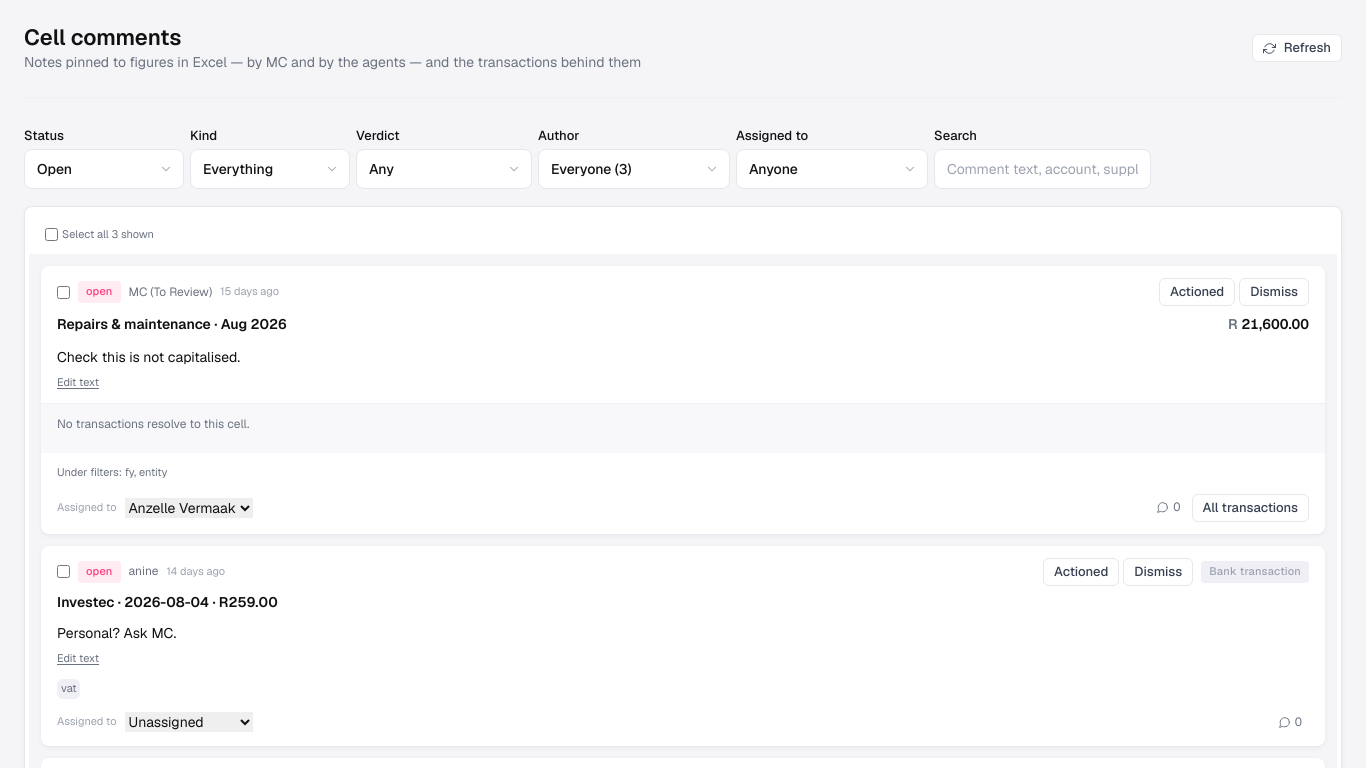
Test: AuditComments — bulk assign › a whole-batch failure reports zero, not silence
Click the checkbox with test id "cc-pick-41": (64, 292) [57,286,70,299]
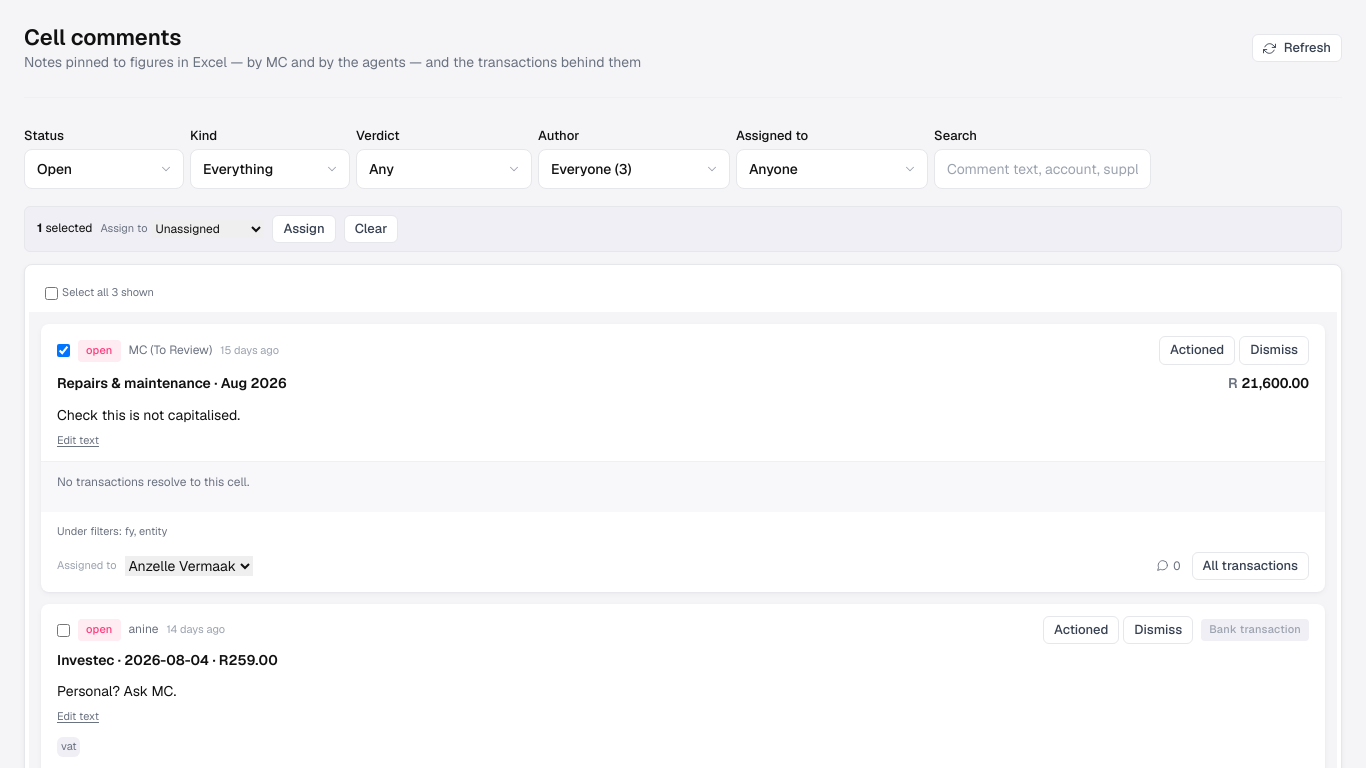
Click the checkbox named "Select for bulk assign: Investec · 2026-08-04 · R259.00": (64, 630) [57,624,70,637]
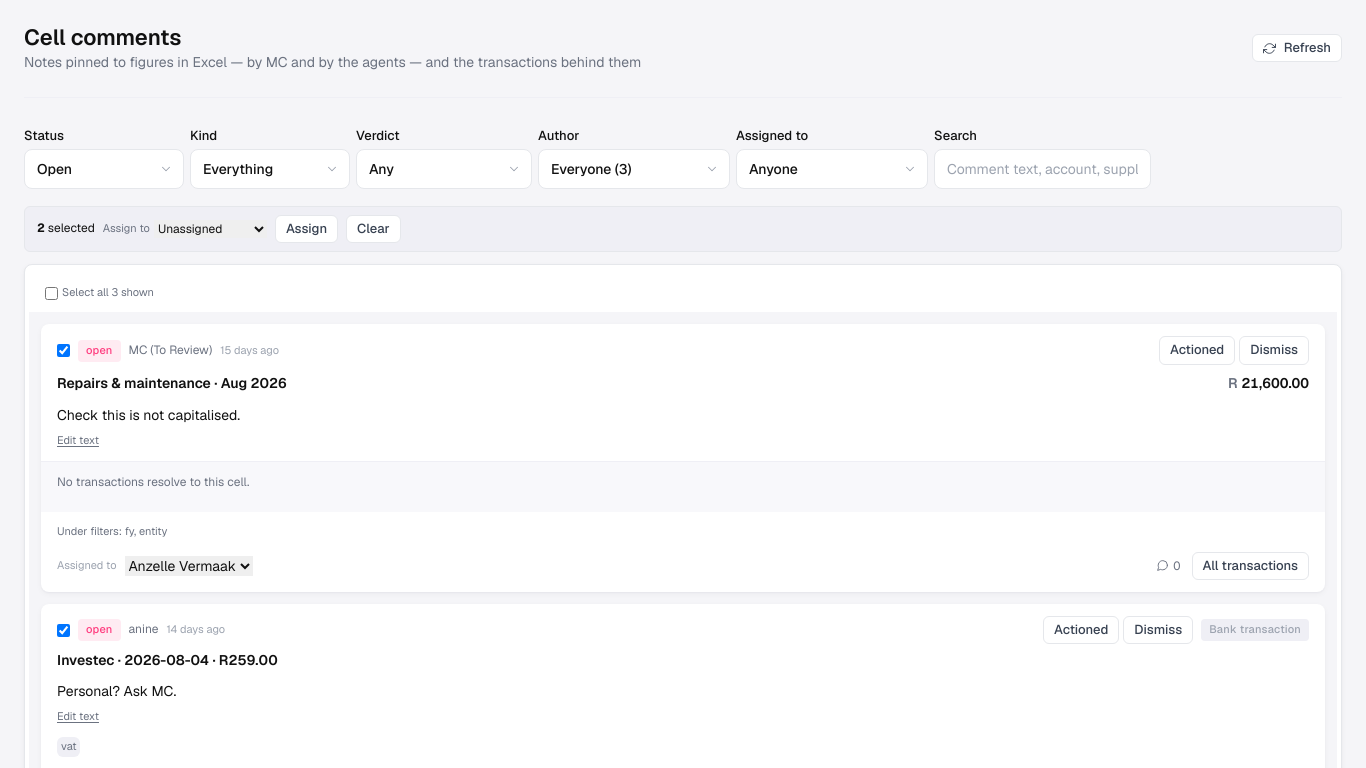
Click the button with test id "cc-bulk-apply": (306, 229) [275,215,338,243]
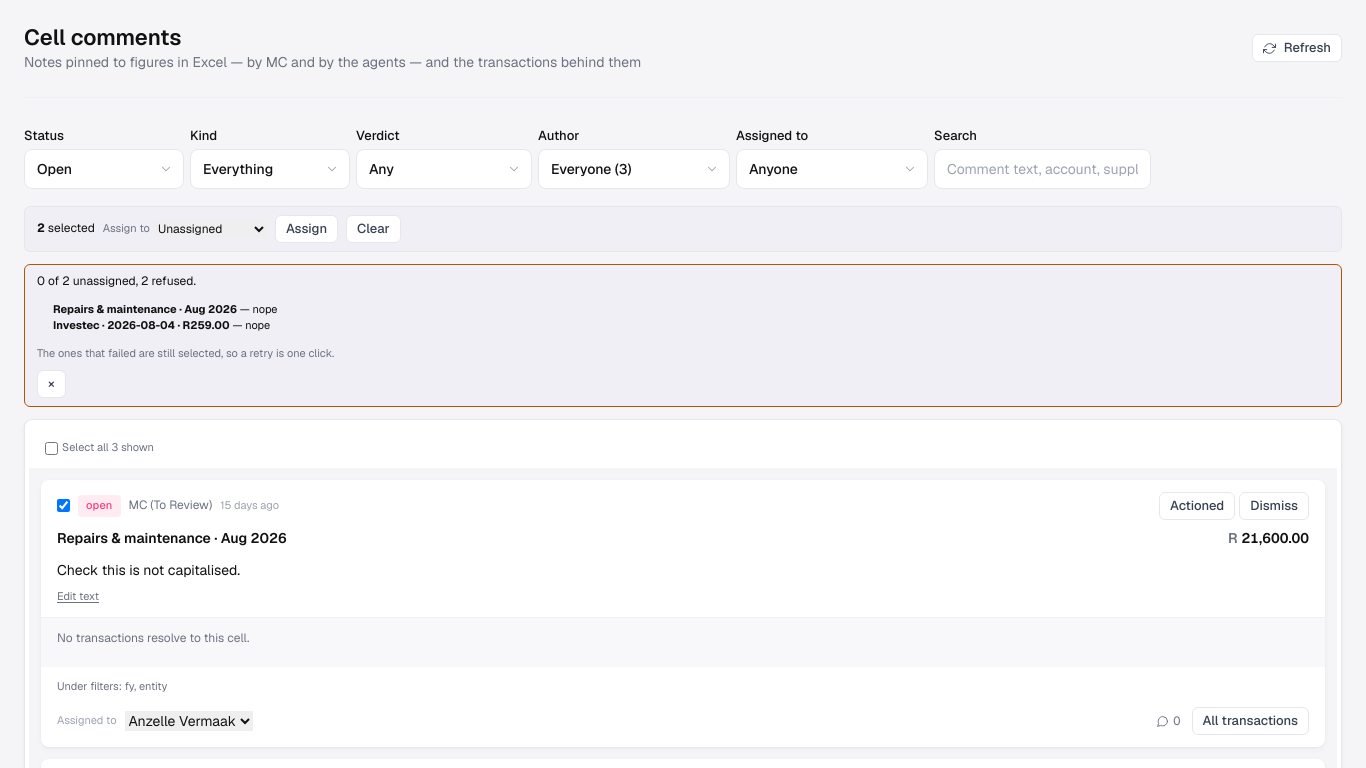
Expected: the message with test id "cc-bulk-result" shows "0 of 2", [37,273,136,289]
Expected: the number of list items with test id "cc-bulk-failure" is 2, [53,302,278,316]; [53,318,270,332]
